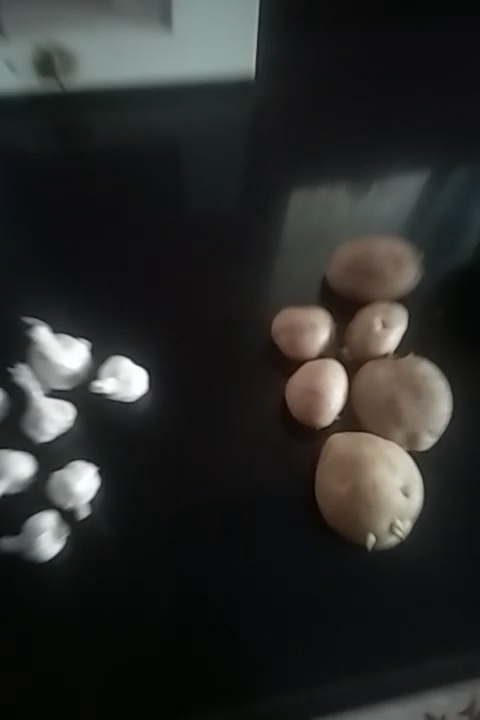garlic: (8, 368, 78, 448), (23, 316, 94, 392), (46, 453, 108, 525), (1, 509, 75, 561), (89, 356, 151, 405), (1, 454, 42, 498)
potato: (308, 425, 427, 553), (346, 354, 454, 453), (327, 245, 429, 297), (284, 358, 350, 432), (271, 298, 339, 360), (350, 301, 411, 360)
